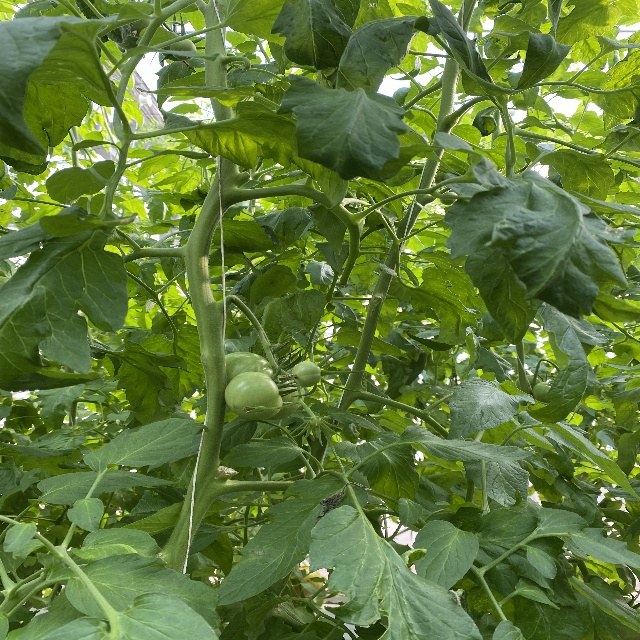b_green: (224, 371, 283, 420), (225, 352, 282, 386), (263, 375, 305, 420), (292, 361, 322, 387), (170, 39, 197, 61), (515, 376, 542, 395), (532, 382, 554, 404)
